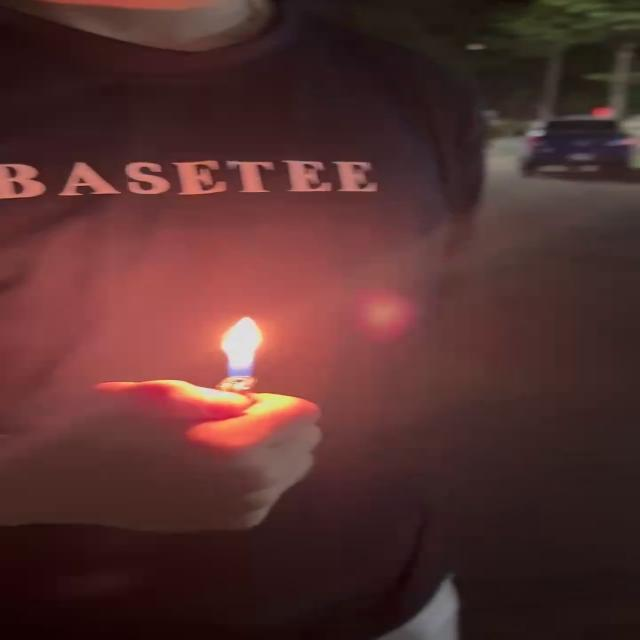Fire: (219, 315, 273, 381)
